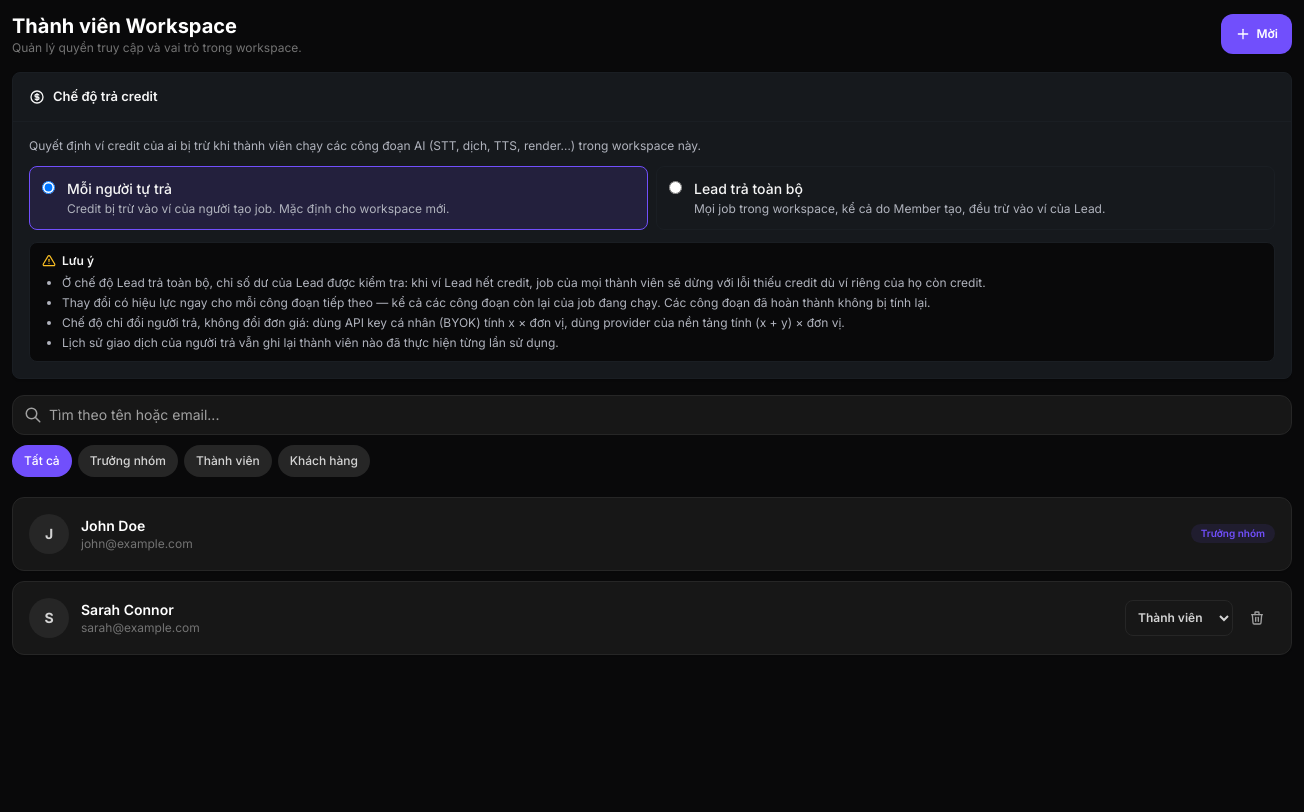
MobileMembersPage › filters members by search query
Type "sarah" into the field with placeholder "Tìm theo tên hoặc email...". click: (652, 414)
box: [12,394,1292,434]
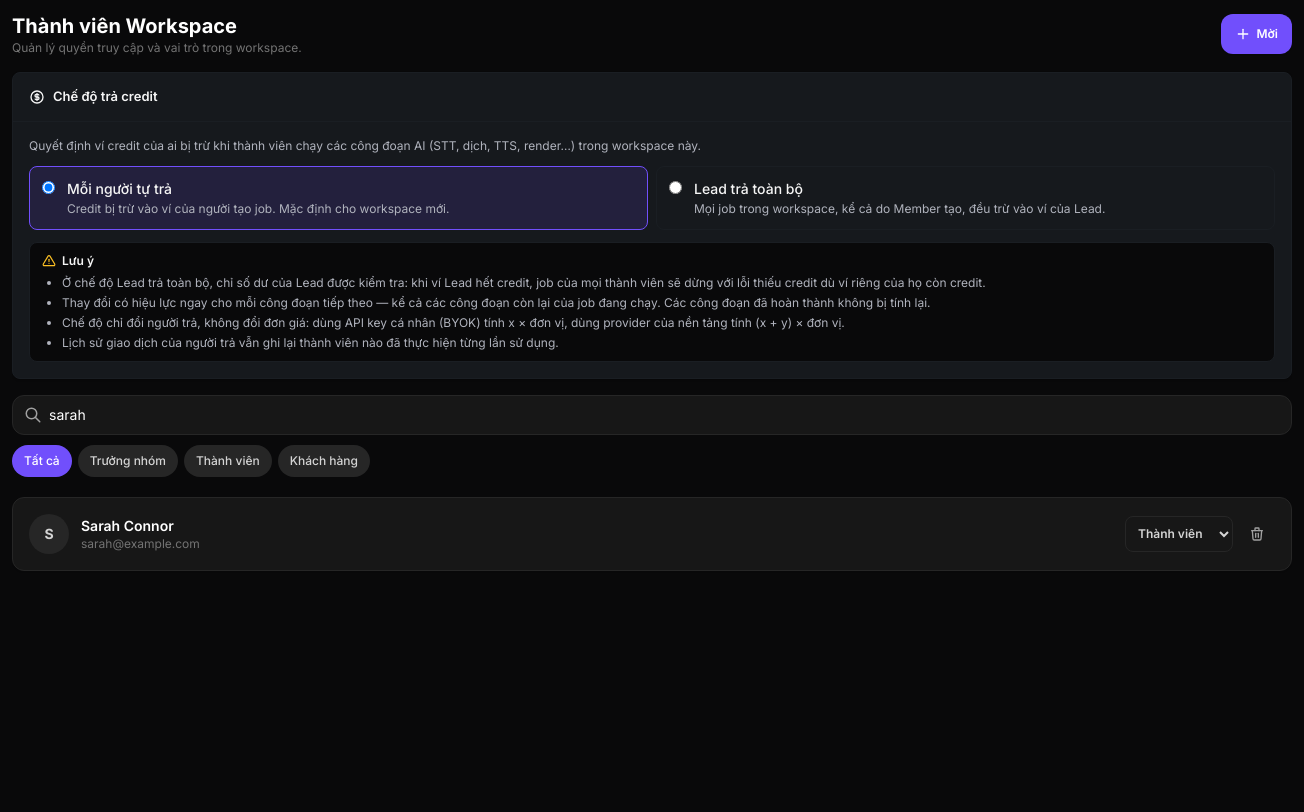
Expected: the text "Sarah Connor" is shown, [81,516,174,534]
Now the text "John Doe" is gone
